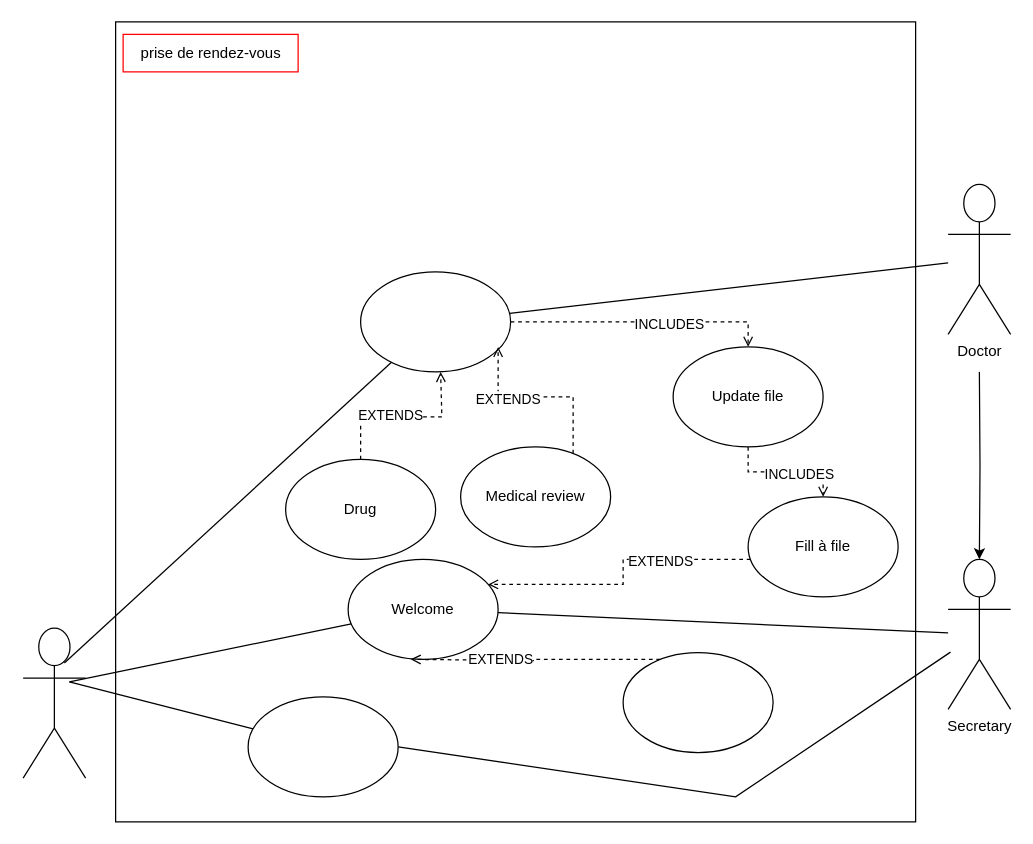
Image size: 1033x844. Some labels were removed from this diagram. The centre of each missing label's shape, as x and y in pixels:
Consultation: pixel 435 321
Customer: pixel 54 702
Make Appointment: pixel 322 746
Waiting room: pixel 697 701
